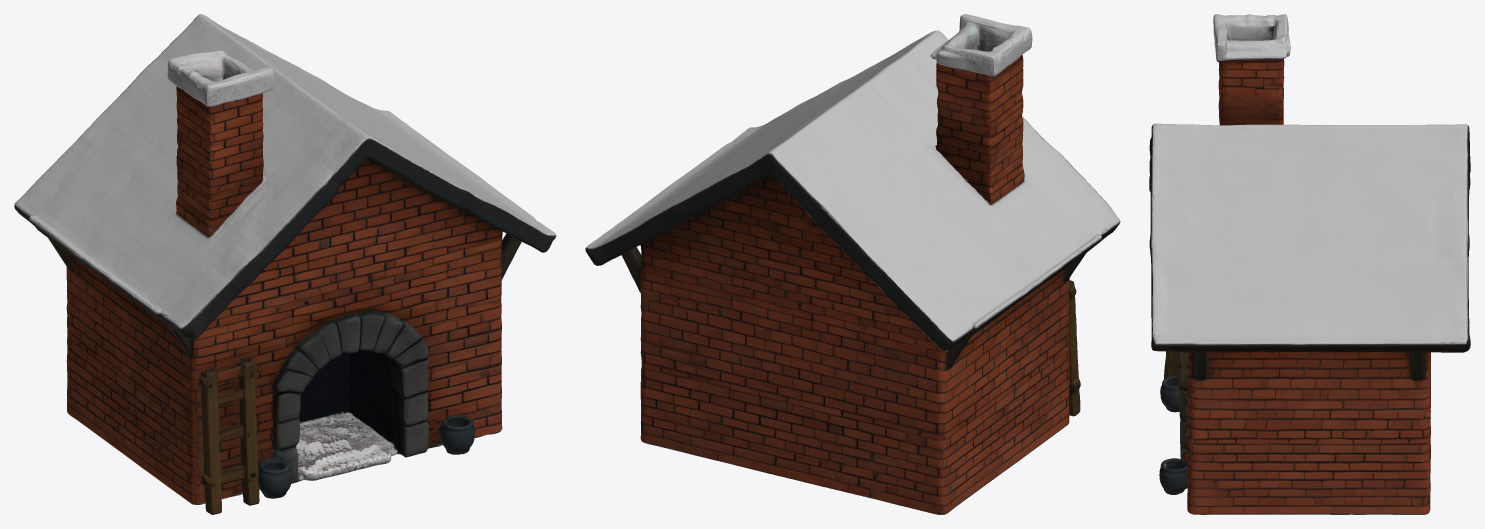
Rendered from building_brick.glb.
3 views of the same model, side by side, from view 1: azimuth 30°, elevation 25°; view 2: azimuth 150°, elevation 25°; view 3: azimuth 270°, elevation 25° (orthographic). The views are drawn at different scales.
Parts seen in each view (by area): view 1: textured_mesh.obj; view 2: textured_mesh.obj; view 3: textured_mesh.obj.
Part boxes in pixels (box(x1,y1,x2,y2)): textured_mesh.obj: box(14, 14, 556, 514); textured_mesh.obj: box(585, 14, 1120, 514); textured_mesh.obj: box(1149, 14, 1470, 514).
Bounding box in the file's own units: 1.96 × 1.99 × 1.55.
Materials: 1 (1 with a texture image).
